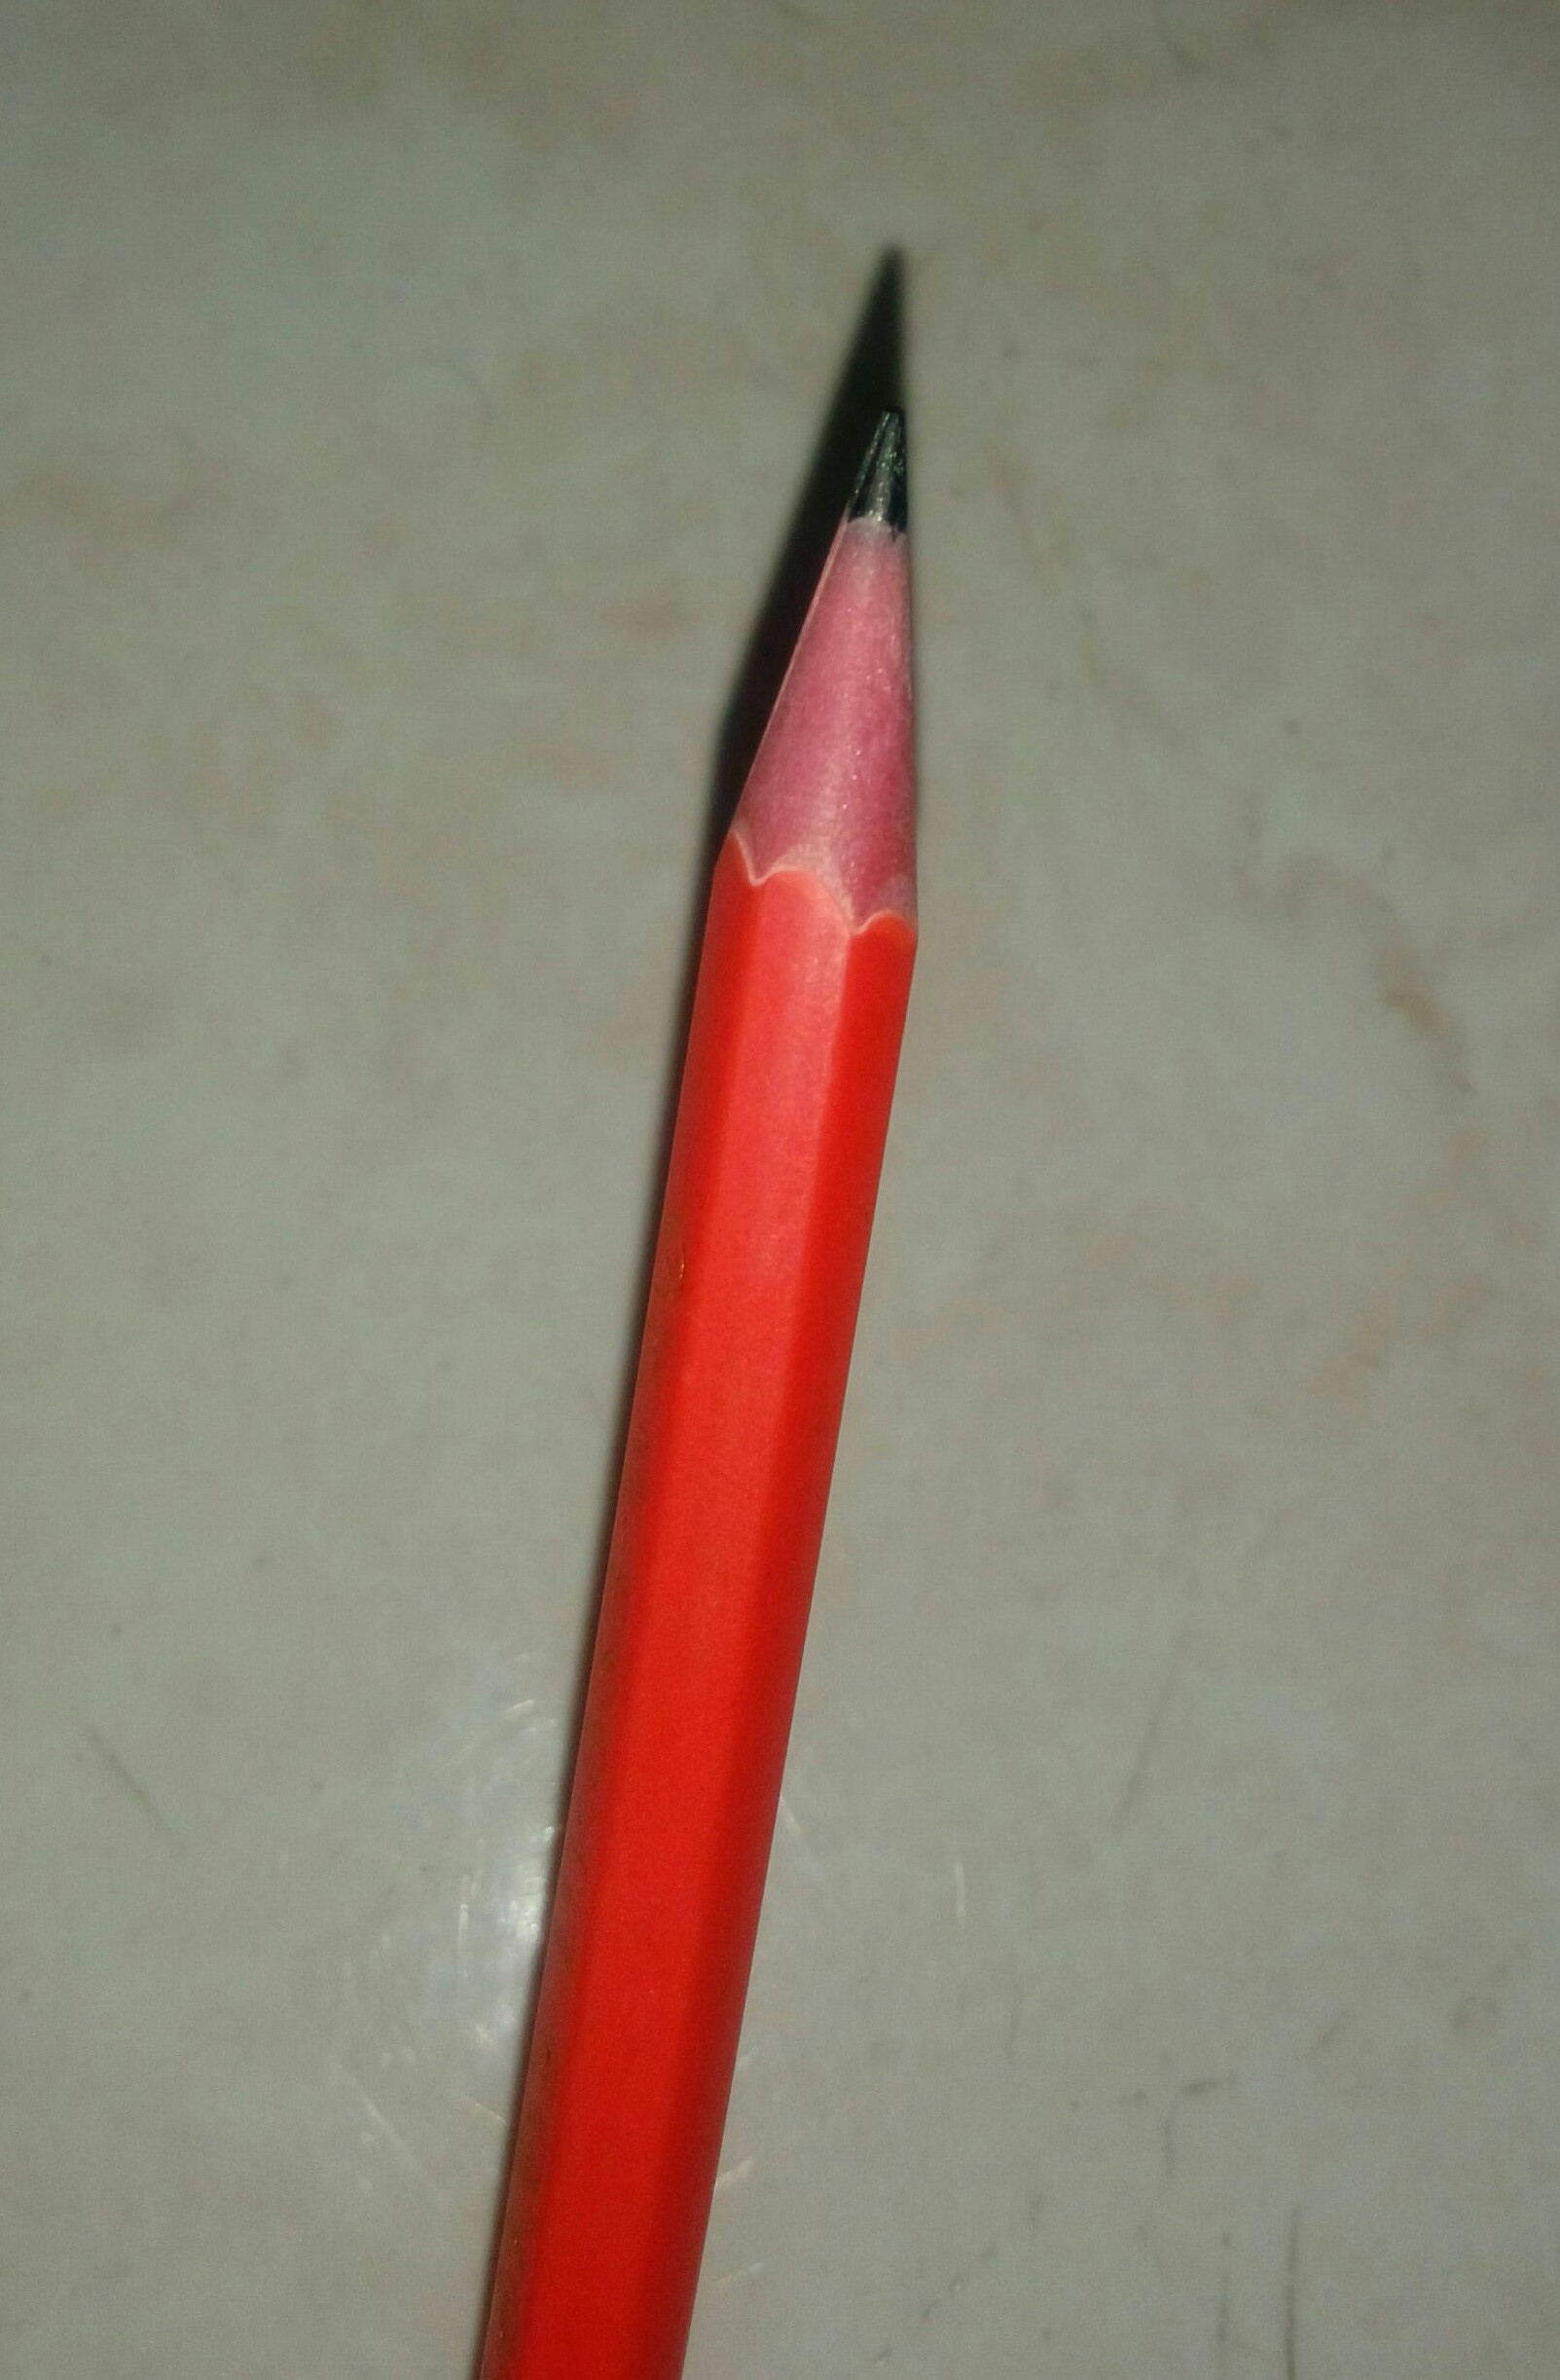pen_tip: (576, 380, 1130, 1034)
